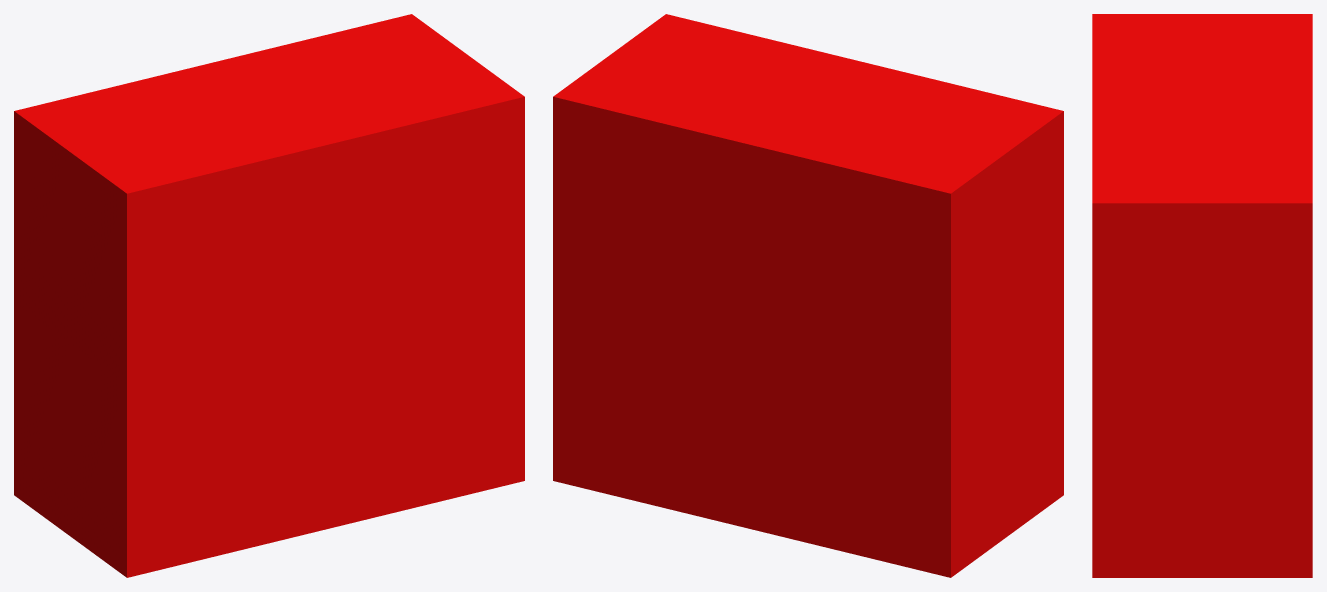
The model's file is cerv3sm_col.dae.
The picture shows the model from 3 angles, left to right: view 1: azimuth 30°, elevation 25°; view 2: azimuth 150°, elevation 25°; view 3: azimuth 270°, elevation 25°; orthographic projection. The views are drawn at different scales.
Parts seen in each view (by area): view 1: node0; view 2: node0; view 3: node0.
Part boxes in pixels (x1,y1,x2,y2): node0: (14, 14, 524, 577); node0: (553, 14, 1063, 577); node0: (1092, 14, 1312, 577).
Size of the model in its own units: 0.0587 by 0.0542 by 0.0289.
